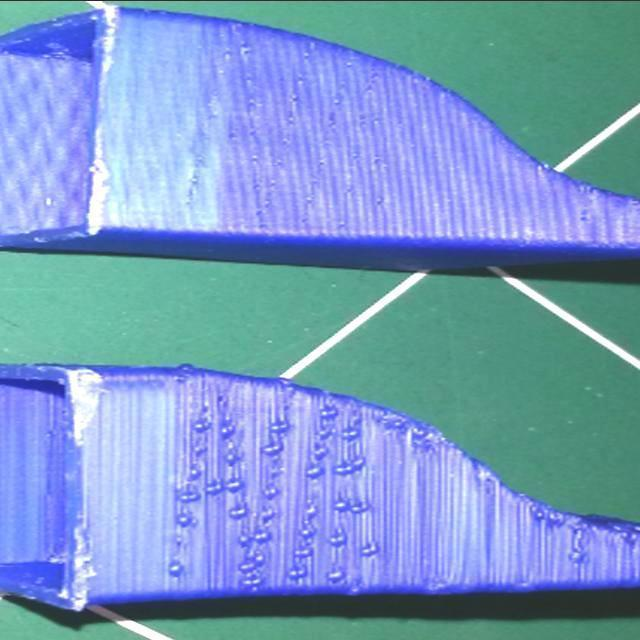zits: (171, 512, 205, 530), (174, 491, 208, 507), (228, 501, 258, 518), (264, 419, 294, 435), (258, 437, 286, 454), (282, 564, 314, 578), (218, 480, 246, 496), (232, 560, 262, 574), (324, 567, 346, 586), (262, 484, 288, 500), (347, 451, 369, 469), (294, 524, 322, 538), (168, 534, 196, 548), (312, 424, 338, 439), (312, 444, 338, 459), (359, 543, 382, 559), (186, 440, 209, 456), (252, 529, 276, 544), (238, 575, 262, 590), (323, 533, 347, 547), (350, 500, 370, 516), (322, 406, 342, 422), (300, 502, 320, 518), (250, 550, 272, 564), (187, 464, 206, 480), (190, 419, 208, 435), (224, 451, 244, 465), (342, 428, 364, 440), (309, 464, 327, 478), (162, 563, 183, 575), (296, 546, 316, 558), (210, 482, 228, 494), (332, 498, 349, 510), (224, 454, 244, 464)
